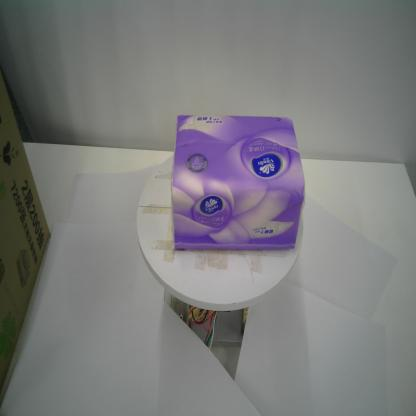Tissue: (168, 110, 308, 254)
